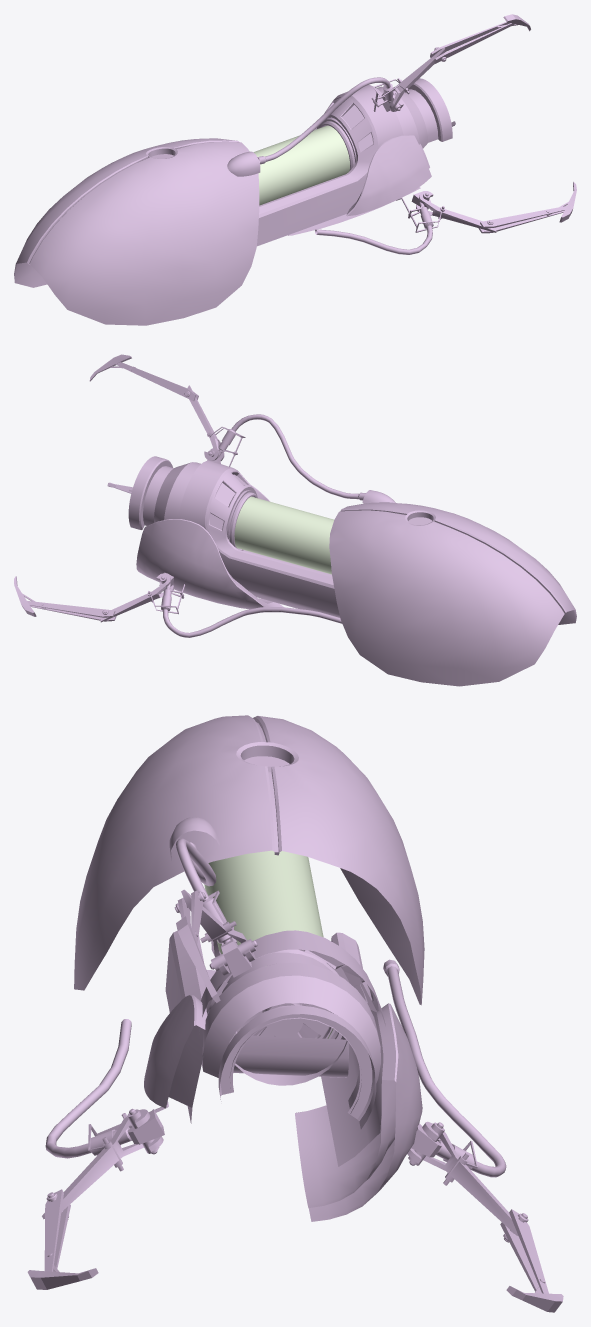
File: gun.fbx
The picture shows the model from 3 angles, top to bottom: view 1: azimuth 30°, elevation 25°; view 2: azimuth 150°, elevation 25°; view 3: azimuth 270°, elevation 25°; orthographic projection. The views are drawn at different scales.
Visible parts, largest first — view 1: v_portalgun_model.001; view 2: v_portalgun_model.001; view 3: v_portalgun_model.001.
Part boxes in pixels (x1=…): v_portalgun_model.001: x1=14, y1=14, x2=576, y2=325; v_portalgun_model.001: x1=14, y1=354, x2=576, y2=686; v_portalgun_model.001: x1=27, y1=715, x2=563, y2=1312.
Bounding box in the file's own units: 2804 × 1091 × 1319.
